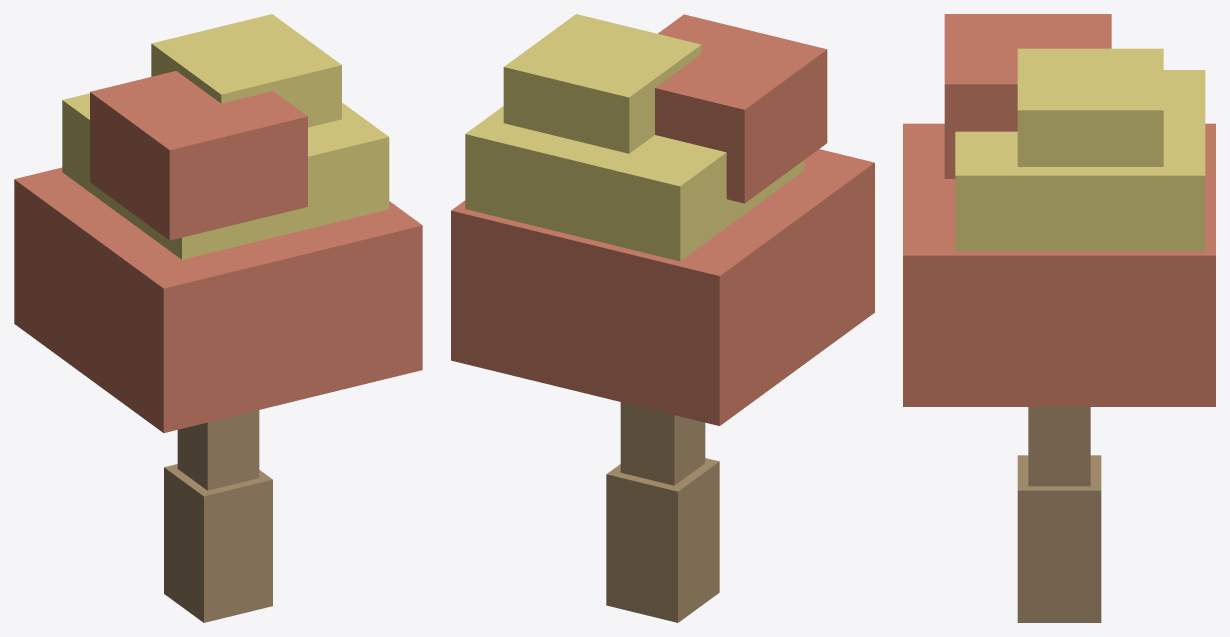
File: prop_autumntree.glb
3 views of the same model, side by side, from view 1: azimuth 30°, elevation 25°; view 2: azimuth 150°, elevation 25°; view 3: azimuth 270°, elevation 25° (orthographic). The views are drawn at different scales.
Visible parts, largest first — view 1: Prop_AutumnTree; view 2: Prop_AutumnTree; view 3: Prop_AutumnTree.
Boxes of the visible parts, x1,y1,x2,y2 form: Prop_AutumnTree: [14, 14, 422, 622]; Prop_AutumnTree: [451, 14, 874, 622]; Prop_AutumnTree: [903, 14, 1215, 622].
Bounding box in the file's own units: 3 × 5.8 × 3.
